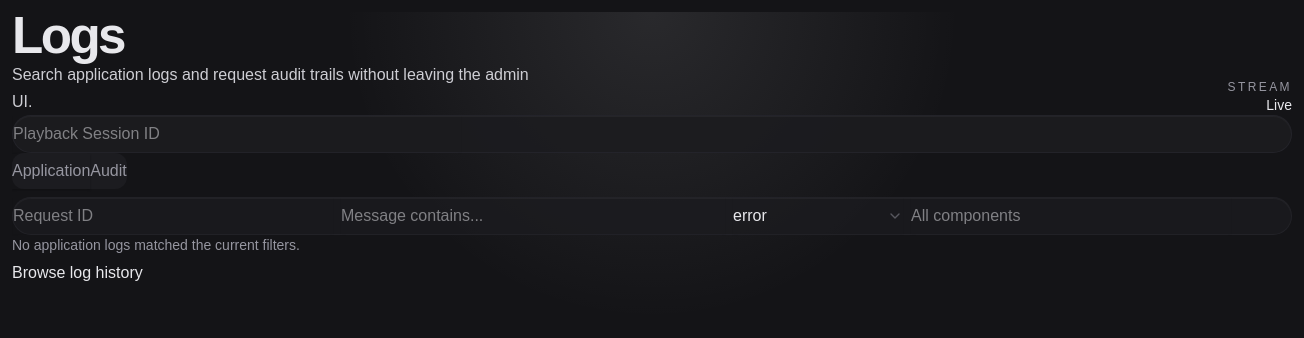
Test case: admin log level and component filters › filters live and history logs by apiv2, including after clearing and re-entering it
The width and height of the screenshot is (1304, 338).
Type "apiv2" into the field labelled "component" at {"x": 1071, "y": 216}, box [911, 198, 1231, 234]
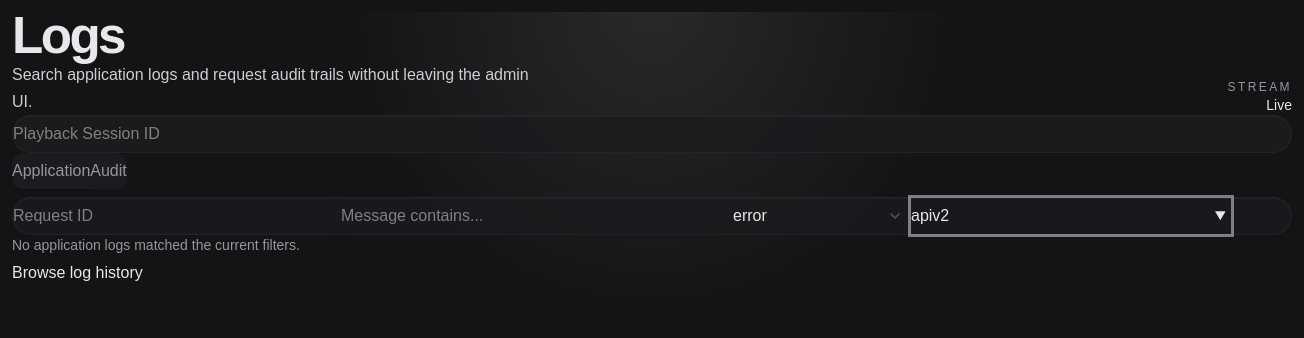
Click the button "Browse log history" at {"x": 77, "y": 273}, box [12, 255, 143, 291]
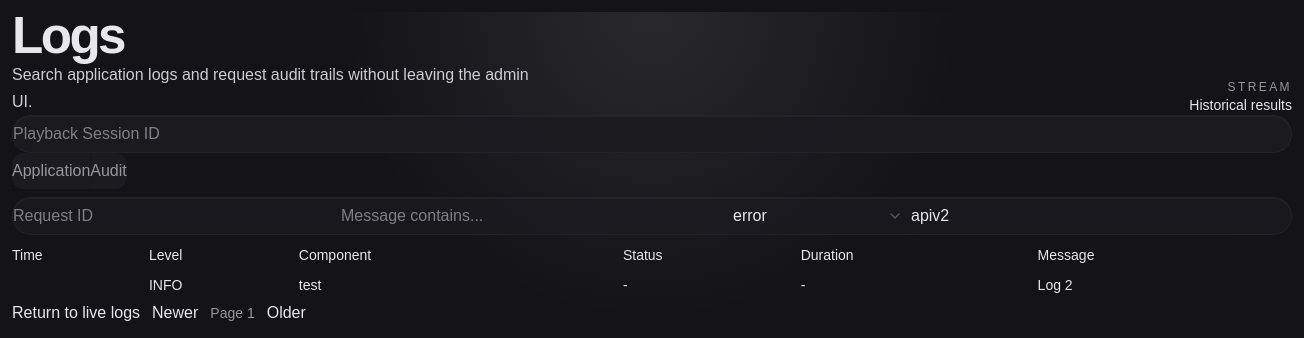
Clear the field named "component" at {"x": 1071, "y": 216}, box [911, 198, 1231, 234]
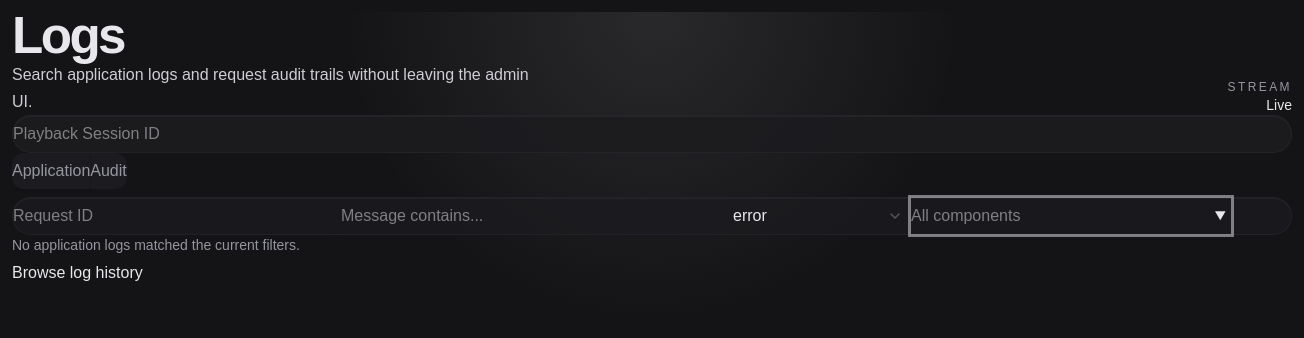
expect the button "Browse log history" is shown: met, box [12, 255, 143, 291]
Type "apiv2" into the field labelled "component" at {"x": 1071, "y": 216}, box [911, 198, 1231, 234]
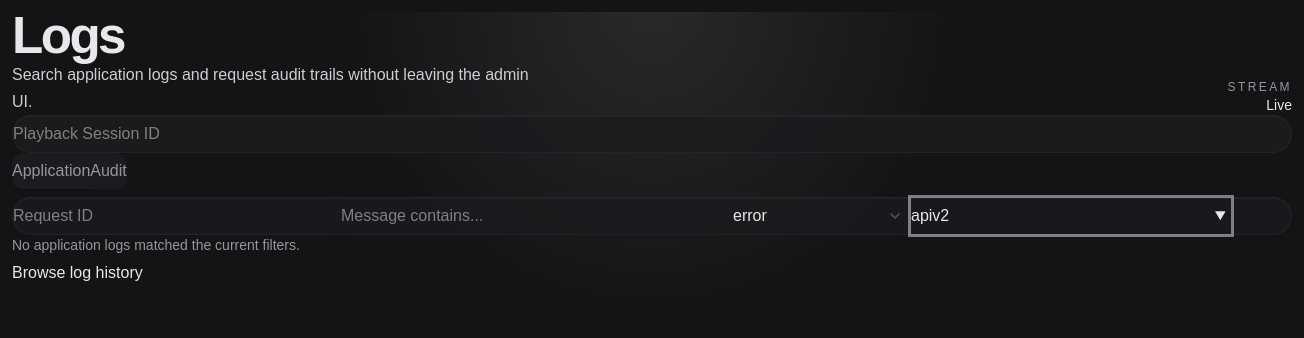
Click the button "Browse log history" at {"x": 77, "y": 273}, box [12, 255, 143, 291]
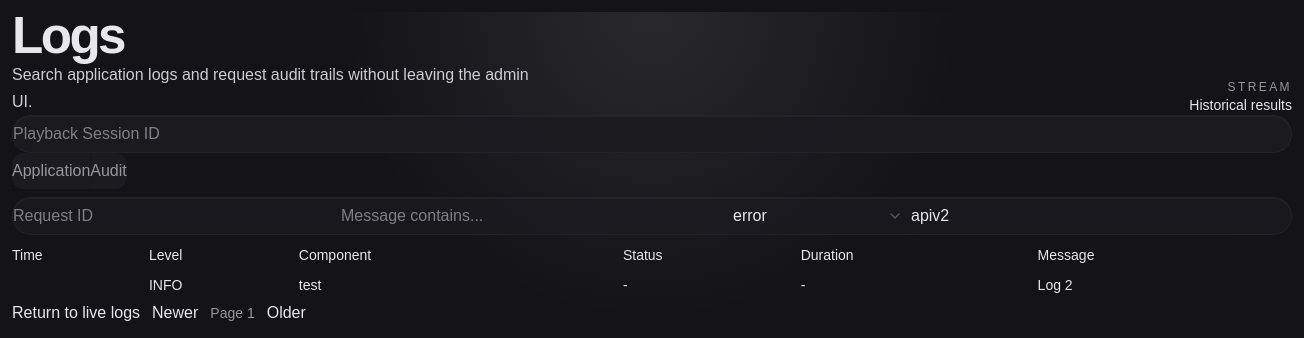
Clear the field named "component" at {"x": 1071, "y": 216}, box [911, 198, 1231, 234]
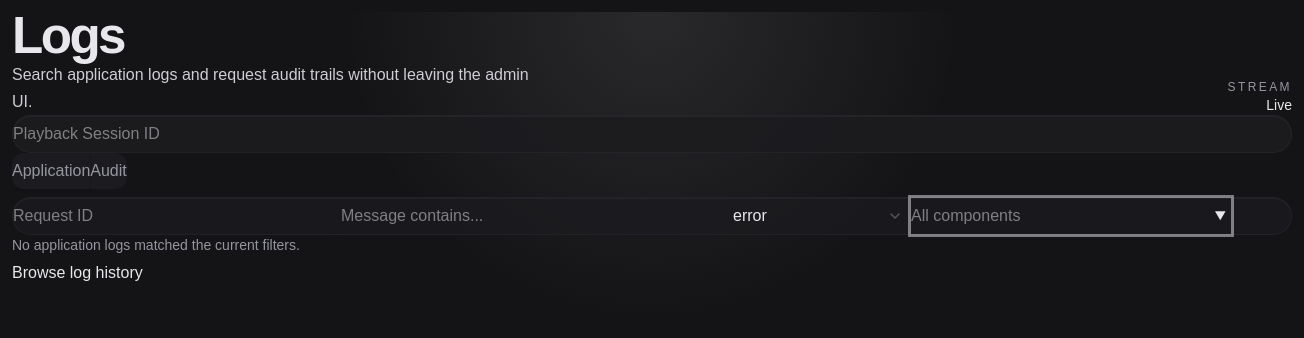
expect the button "Browse log history" is shown: met, box [12, 255, 143, 291]
